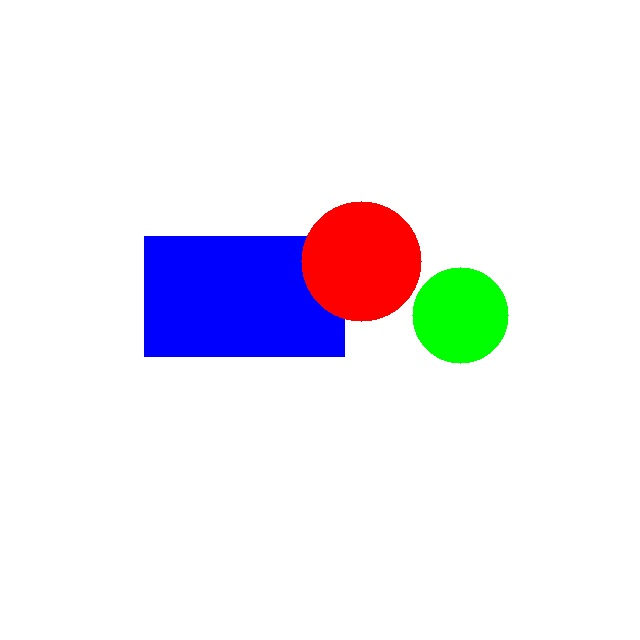cartao: (144, 236, 344, 356)
rosca_externa: (412, 267, 508, 363)
rosca_interna: (301, 201, 421, 321)
